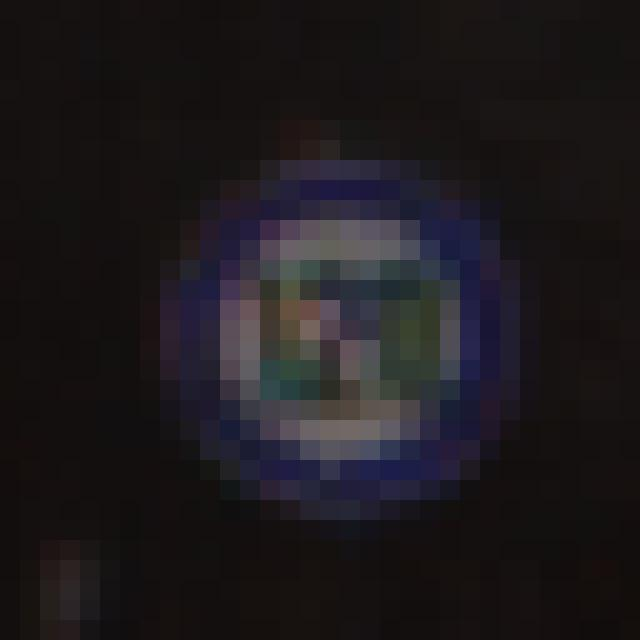SPEED LIMIT 120: (165, 153, 514, 500)
